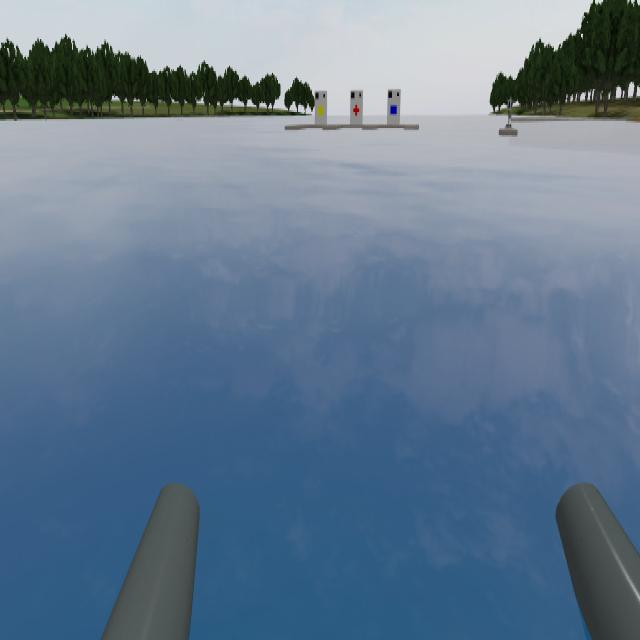black_pole: (504, 93, 518, 117)
